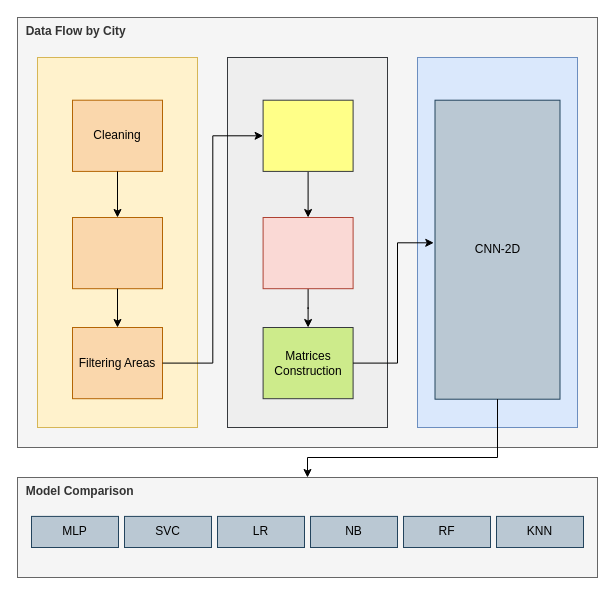
Some shapes in this 615 by 595 pixel diagram are drawn without their labels. The box of each missing label's shape, as (x1, y1, x2, y2) in pixels:
Genetic Algorithm: (262, 99, 353, 171)
Model Training: (416, 56, 578, 428)
Postprocess: (226, 56, 388, 428)
Preprocess: (36, 56, 198, 428)
Resampling: (262, 216, 353, 289)
Transformation: (72, 216, 162, 289)
